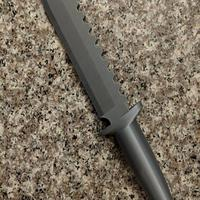knife: (49, 1, 170, 200)
